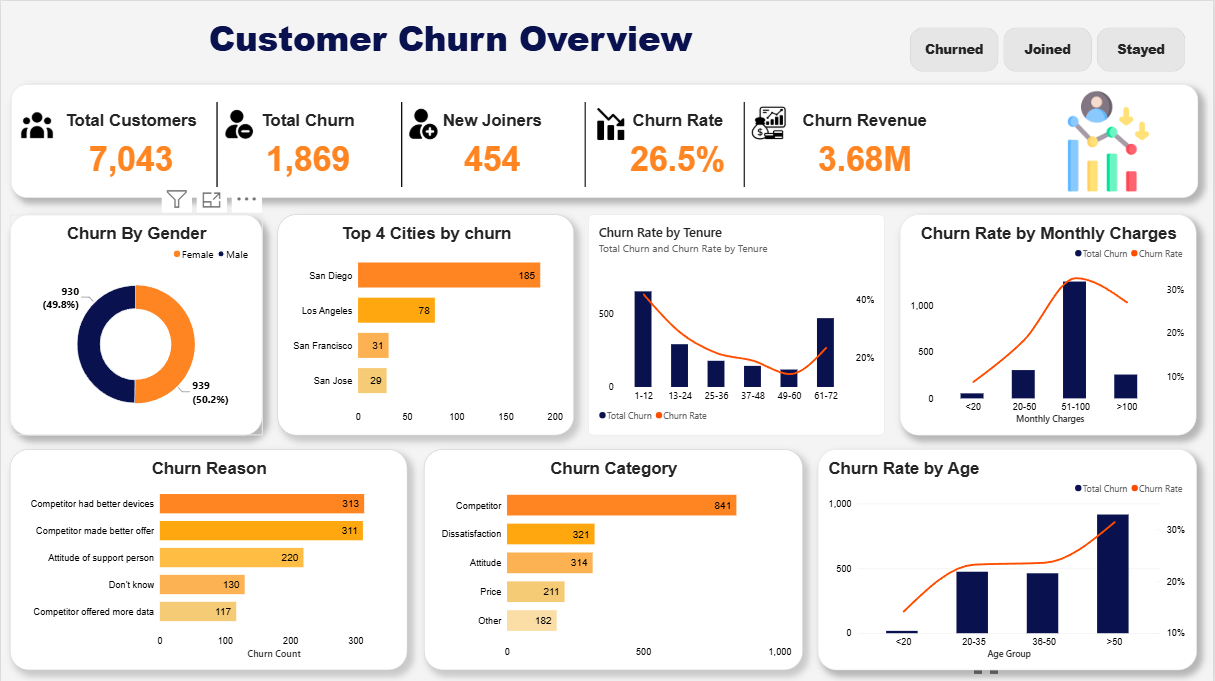

This screenshot's page, from the dashboard's own definition file:
{"tool":"powerbi","page":{"name":"Page 1","canvas":[1920,1080],"ordinal":0},"visuals":[{"type":"shape","box":[15,132.5,1880,180],"z":0},{"type":"card","title":"New Joiners","fields":{"Values":["db_churn telecom_customer_churn_cleaned.New Joined"]},"box":[632.5,160,292.5,145],"z":1000},{"type":"card","title":"Total Customers","fields":{"Values":["Count(db_churn telecom_customer_churn_cleaned.customer_id)"]},"box":[70,160,272.5,145],"z":2000},{"type":"card","title":"Churn Rate","fields":{"Values":["db_churn telecom_customer_churn_cleaned.Churn Rate"]},"box":[925,160,292.5,145],"z":3000},{"type":"card","title":"Total Churn","fields":{"Values":["db_churn telecom_customer_churn_cleaned.Total Churn"]},"box":[340,160,292.5,145],"z":4000},{"type":"image","box":[12.5,167.5,90,55],"z":5000},{"type":"image","box":[935,165,60,57.5],"z":6000},{"type":"image","box":[347.5,167.5,60,55],"z":7000},{"type":"image","box":[640,165,60,57.5],"z":8000},{"type":"barChart","title":"Churn Reason","fields":{"Category":["db_churn telecom_customer_churn_cleaned.churn_reason"],"Y":["db_churn telecom_customer_churn_cleaned.Total Churn"]},"box":[14,710,630,350],"z":9000},{"type":"donutChart","title":"Churn By Gender","fields":{"Y":["db_churn telecom_customer_churn_cleaned.Total Churn"],"Category":["db_churn telecom_customer_churn_cleaned.gender"]},"box":[14,338,400,350],"z":10000},{"type":"shape","box":[335,160,12.5,135],"z":11000},{"type":"shape","box":[917.5,160,15,135],"z":12000},{"type":"shape","box":[625,160,17.5,135],"z":13000},{"type":"image","box":[1659.6,137.4,188.7,168.5],"z":14000},{"type":"textbox","box":[0,20,1424,92],"z":15000},{"type":"lineStackedColumnComboChart","title":"Churn Rate by Tenure","fields":{"Y2":["Measure.Churn Rate"],"Y":["Measure.Total Churn"],"Category":["db_churn telecom_customer_churn_cleaned.Tenure"]},"box":[930.7,338,470,350],"z":16000},{"type":"lineStackedColumnComboChart","title":"Churn Rate by Monthly Charges","fields":{"Y2":["Measure.Churn Rate"],"Y":["Measure.Total Churn"],"Category":["Monthly Charges Mapping.Monthly Charges "]},"box":[1424,338,470,350],"z":17000},{"type":"barChart","title":"Churn Category","fields":{"Category":["db_churn telecom_customer_churn_cleaned.churn_category"],"Y":["Measure.Total Churn"]},"box":[669,710,600,350],"z":18000},{"type":"lineStackedColumnComboChart","title":"Churn Rate by Age ","fields":{"Y2":["Measure.Churn Rate"],"Y":["Measure.Total Churn"],"Category":["db_churn telecom_customer_churn_cleaned (2).Age Group"]},"box":[1294,710,600,350],"z":19000},{"type":"barChart","title":"Top 4 Cities by churn","fields":{"Y":["db_churn telecom_customer_churn_cleaned.Total Churn"],"Category":["db_churn telecom_customer_churn_cleaned.city"]},"box":[437.3,338,470,350],"z":20000},{"type":"card","title":"Churn Revenue","fields":{"Values":["Measure.Churn Revenue"]},"box":[1222.5,160,292.5,145],"z":21000},{"type":"shape","box":[1170,160,15,135],"z":22000},{"type":"image","box":[1185,165,60,55],"z":23000},{"type":"advancedSlicerVisual","fields":{"Values":["db_churn telecom_customer_churn_cleaned.customer_status"]},"box":[1440,42,454,78],"z":23001}]}

Visuals, with their boxes in screenshot pixels (x1, y1, x2, y2), scaled from the page's 1920x1080 canvas onto the 1215x681 screenshot:
shape: <region>9, 84, 1199, 197</region>
"New Joiners" card: <region>400, 101, 585, 192</region>
"Total Customers" card: <region>44, 101, 217, 192</region>
"Churn Rate" card: <region>585, 101, 770, 192</region>
"Total Churn" card: <region>215, 101, 400, 192</region>
image: <region>8, 106, 65, 140</region>
image: <region>592, 104, 630, 140</region>
image: <region>220, 106, 258, 140</region>
image: <region>405, 104, 443, 140</region>
"Churn Reason" barChart: <region>9, 448, 408, 668</region>
"Churn By Gender" donutChart: <region>9, 213, 262, 434</region>
shape: <region>212, 101, 220, 186</region>
shape: <region>581, 101, 590, 186</region>
shape: <region>396, 101, 407, 186</region>
image: <region>1050, 87, 1170, 193</region>
textbox: <region>0, 13, 901, 71</region>
"Churn Rate by Tenure" lineStackedColumnComboChart: <region>589, 213, 886, 434</region>
"Churn Rate by Monthly Charges" lineStackedColumnComboChart: <region>901, 213, 1199, 434</region>
"Churn Category" barChart: <region>423, 448, 803, 668</region>
"Churn Rate by Age " lineStackedColumnComboChart: <region>819, 448, 1199, 668</region>
"Top 4 Cities by churn" barChart: <region>277, 213, 574, 434</region>
"Churn Revenue" card: <region>774, 101, 959, 192</region>
shape: <region>740, 101, 750, 186</region>
image: <region>750, 104, 788, 139</region>
advancedSlicerVisual - db_churn telecom_customer_churn_cleaned.customer_status: <region>911, 26, 1199, 76</region>
